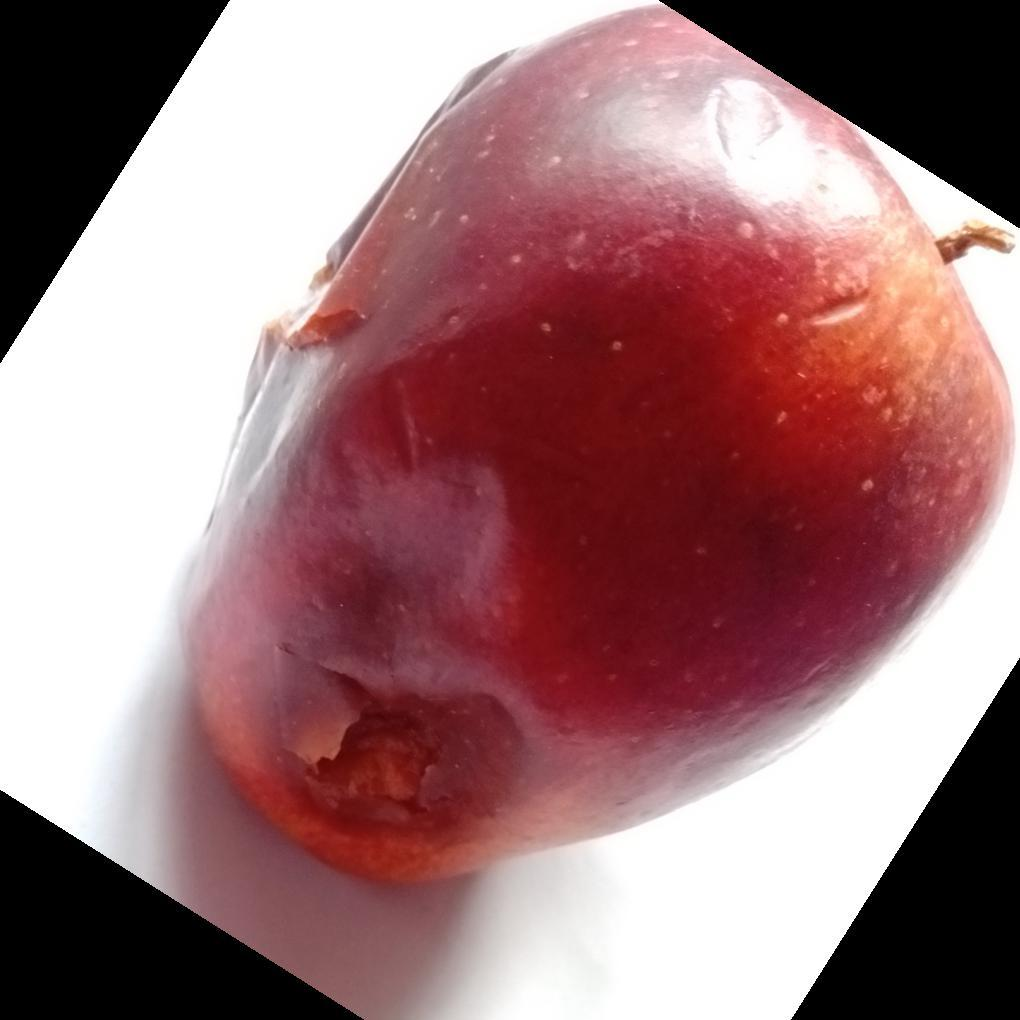FreshOrange: (169, 6, 1016, 897)
